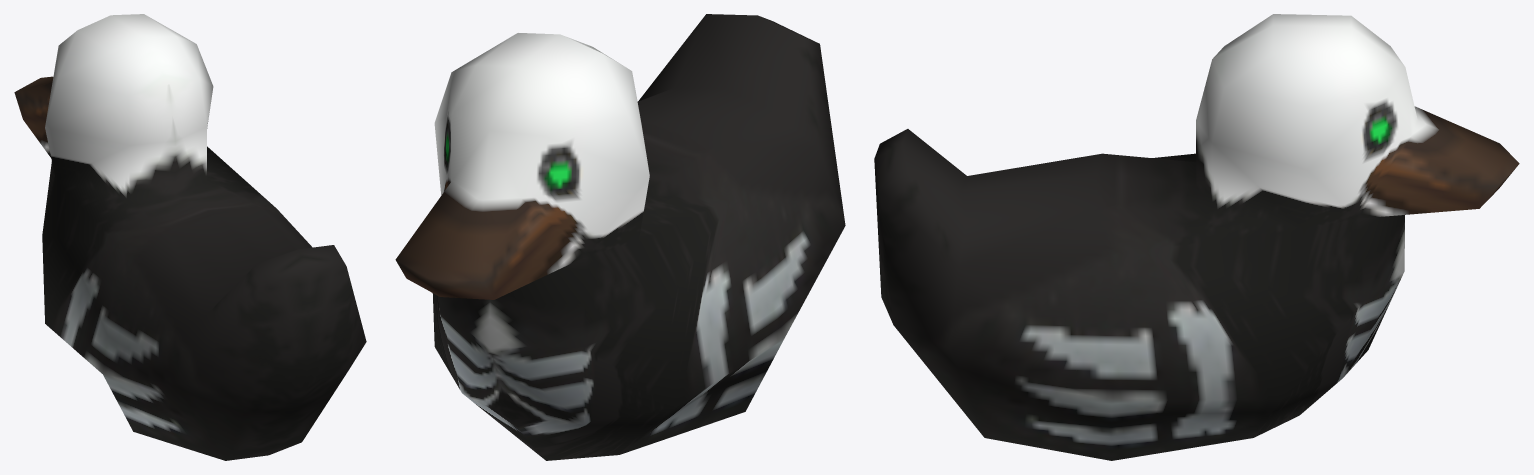
File: duck_glytch3r.fbx
3 views of the same model, side by side, from view 1: azimuth 30°, elevation 25°; view 2: azimuth 150°, elevation 25°; view 3: azimuth 270°, elevation 25° (orthographic). The views are drawn at different scales.
Visible parts, largest first — view 1: Untitled.002; view 2: Untitled.002; view 3: Untitled.002.
Boxes of the visible parts, left/top/right/bottom form: Untitled.002: left=14, top=14, right=366, bottom=460; Untitled.002: left=395, top=14, right=845, bottom=460; Untitled.002: left=874, top=14, right=1519, bottom=460.
Size of the model in its own units: 0.1109 by 0.1598 by 0.2394.
